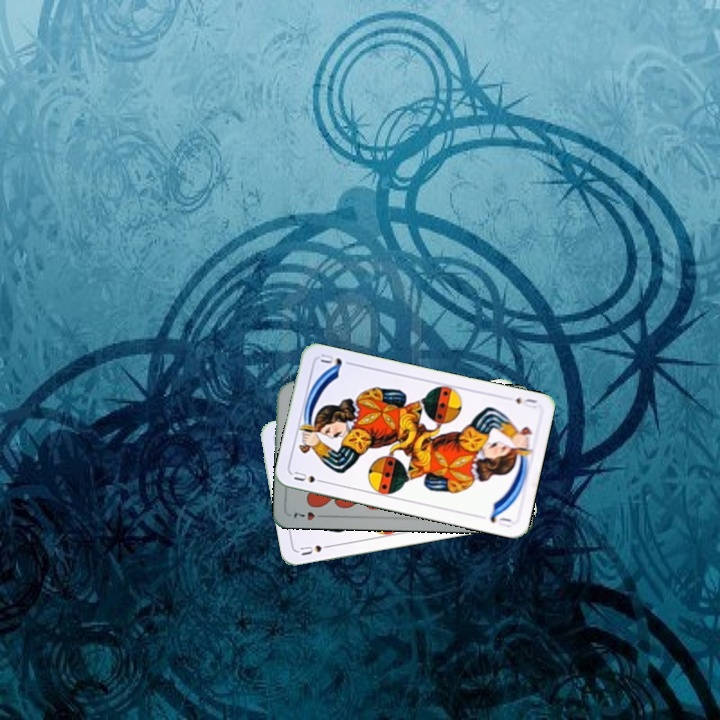H7: (290, 507, 328, 523)
SU: (290, 467, 329, 486), (296, 540, 335, 558), (511, 394, 540, 411)
